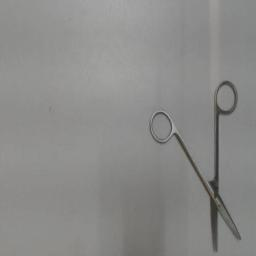Curved Mayo Scissors: (146, 76, 246, 254)
